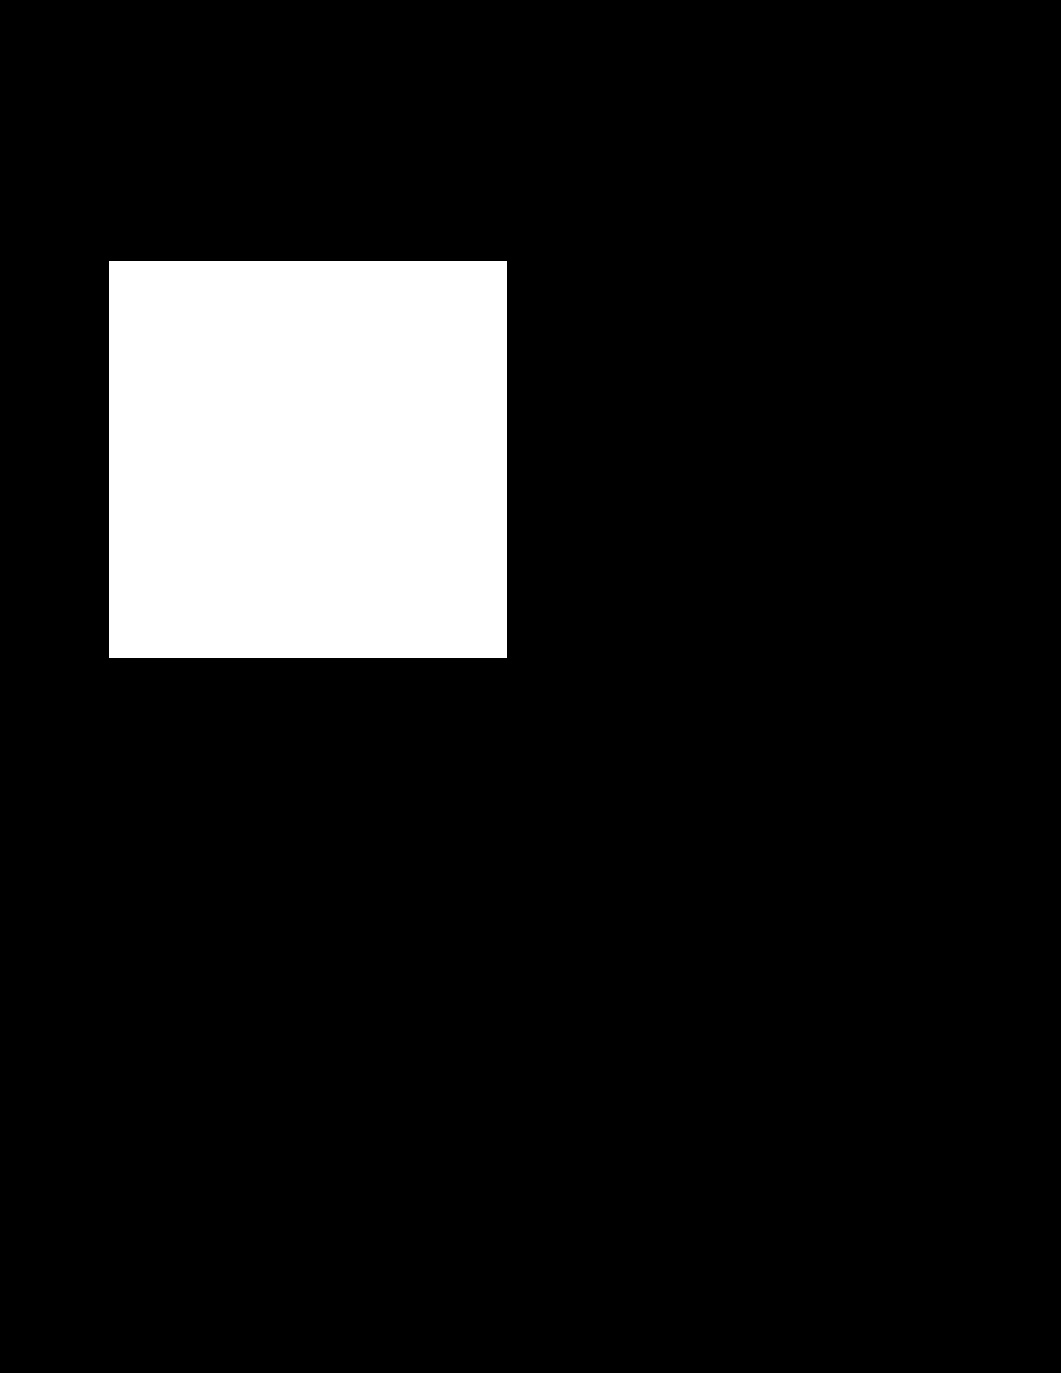table: (109, 261, 506, 658)
